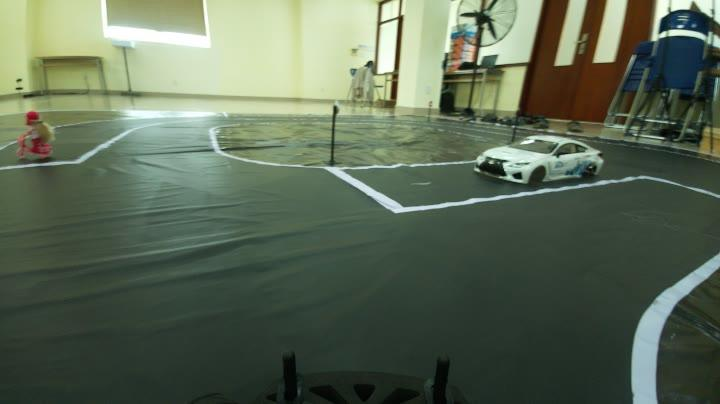car: (466, 125, 602, 189)
